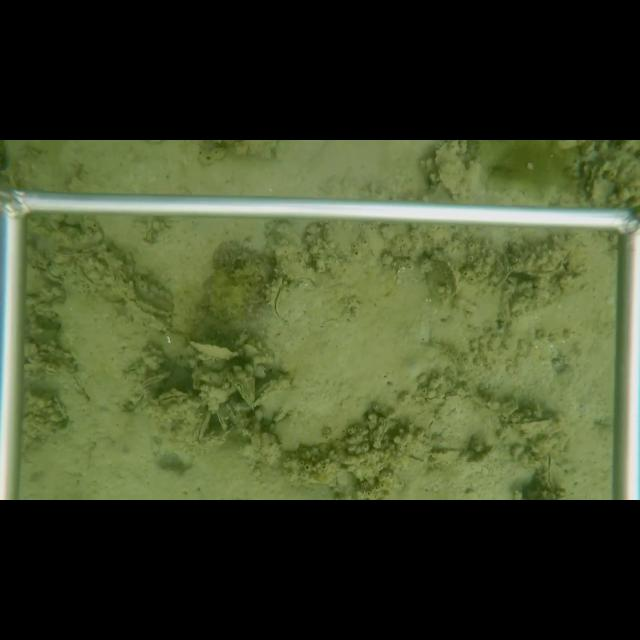Oyster-Closed: (268, 276, 322, 331), (434, 141, 472, 200), (222, 370, 257, 413), (500, 416, 560, 440), (254, 378, 296, 411), (191, 339, 242, 361), (537, 450, 558, 494), (191, 407, 213, 447), (156, 387, 192, 407), (224, 399, 244, 421), (215, 407, 230, 431)
